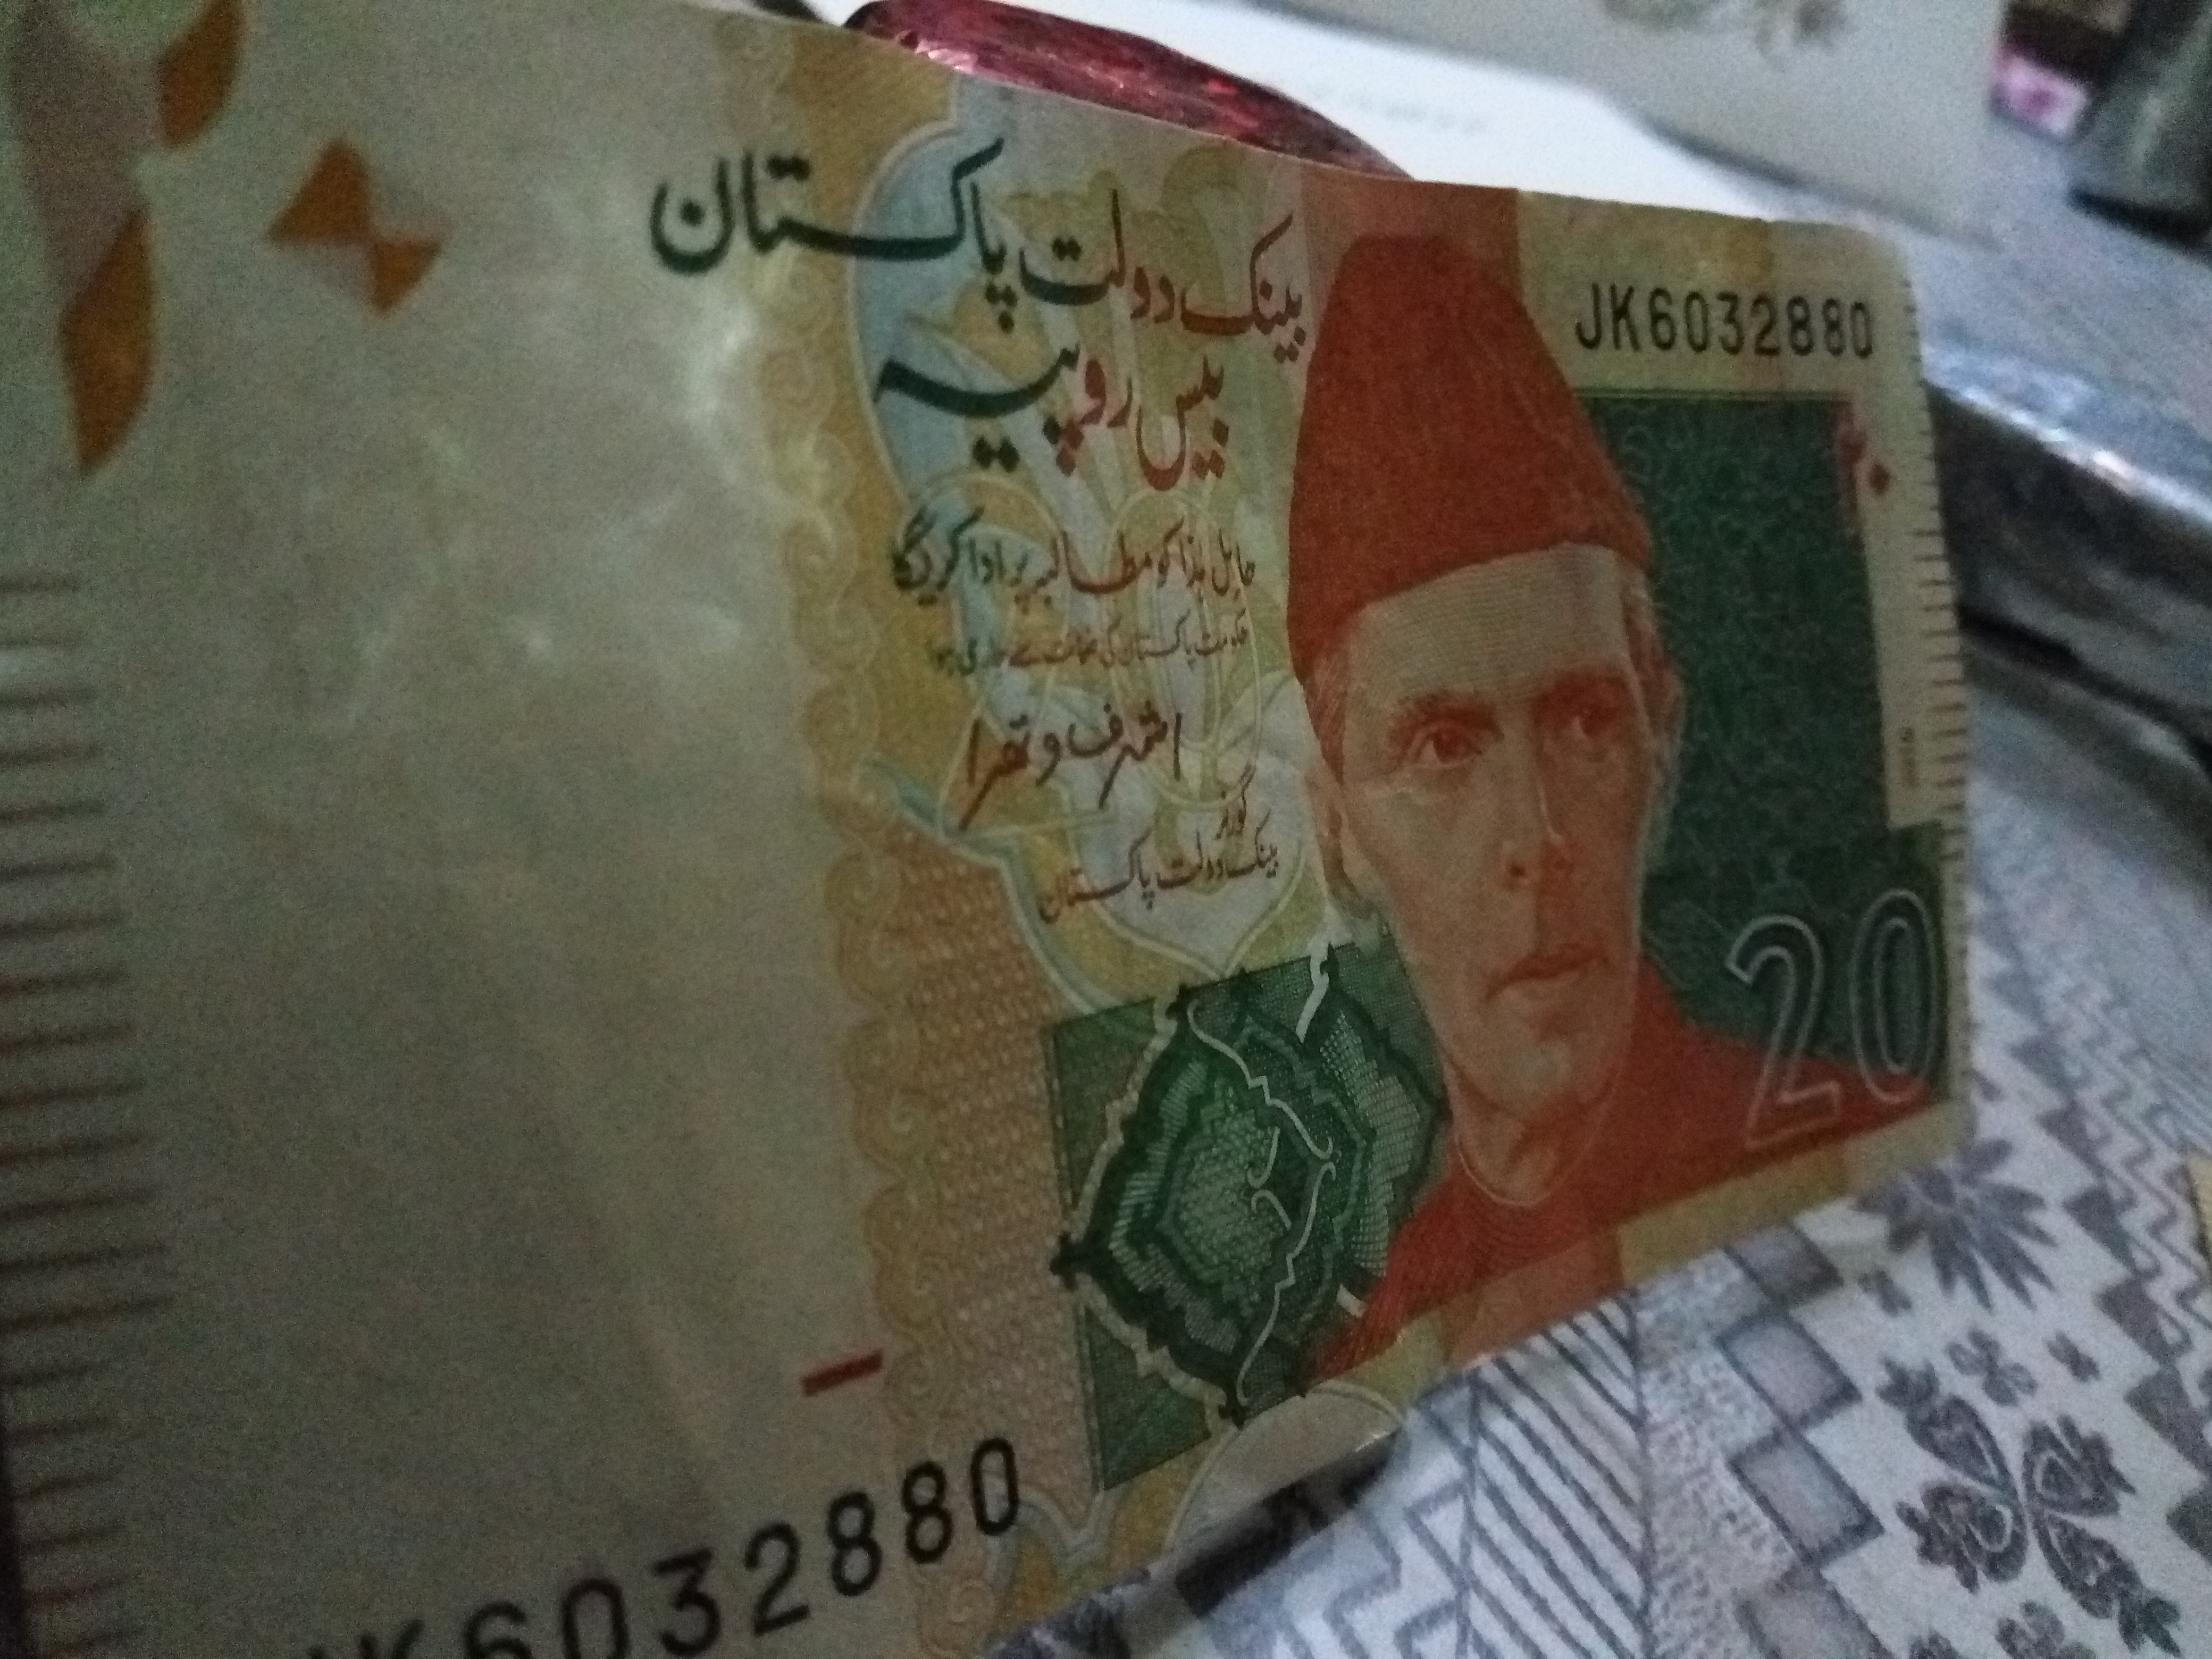20 rupee: (51, 42, 2038, 1635)
